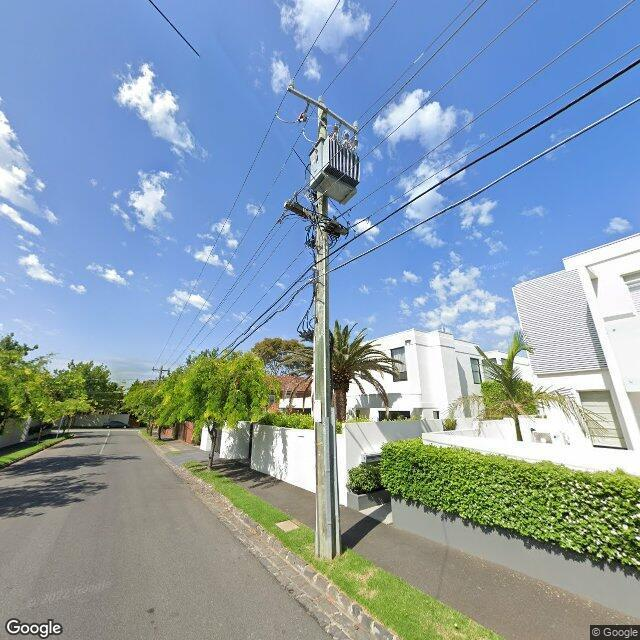HV-transmission: (277, 80, 359, 134), (153, 365, 170, 374)
crossarm: (288, 86, 357, 134), (284, 199, 349, 237), (152, 368, 170, 372)
timber-pole: (314, 102, 342, 562), (150, 364, 164, 436)
transformer: (308, 123, 362, 205)
